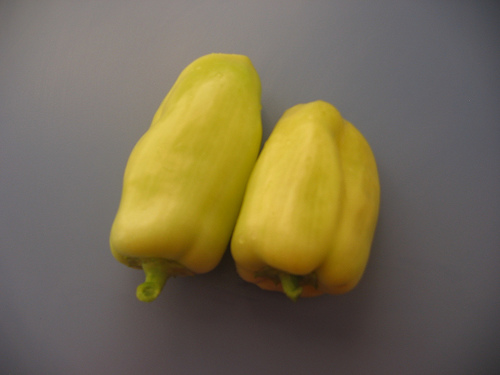capsicum: (108, 52, 262, 304), (226, 95, 390, 319)
